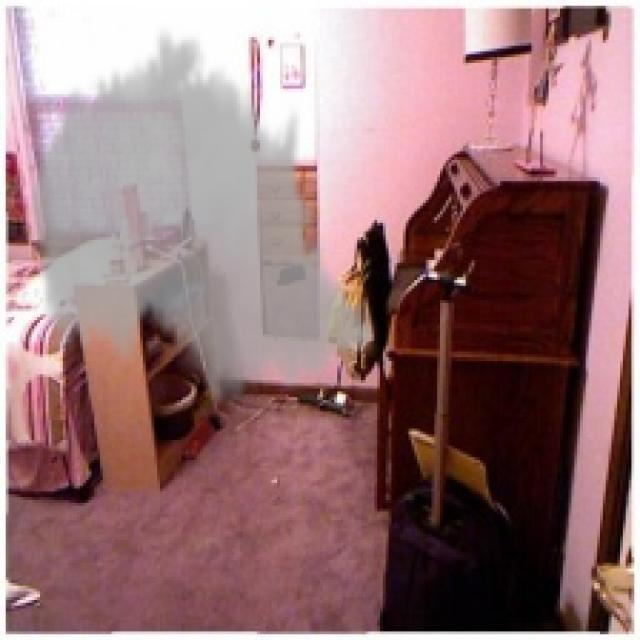Smoke: (26, 22, 377, 418)
